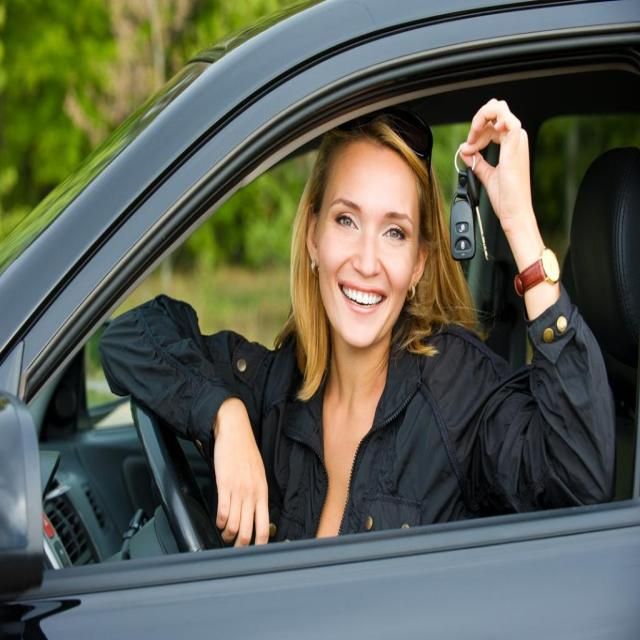Face: (311, 126, 427, 345)
